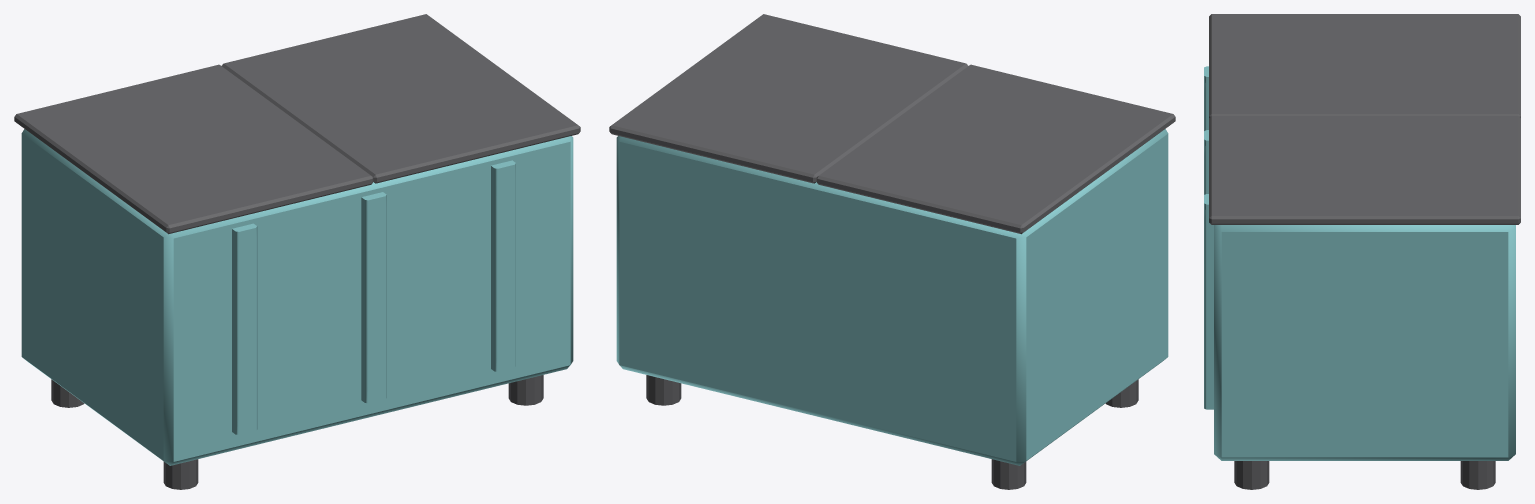
The model's file is dumpster.glb.
The picture shows the model from 3 angles, left to right: view 1: azimuth 30°, elevation 25°; view 2: azimuth 150°, elevation 25°; view 3: azimuth 270°, elevation 25°; orthographic projection.
Visible parts, largest first — view 1: dumpster_accent2, dumpster_dark, dumpster_rubber; view 2: dumpster_accent2, dumpster_dark, dumpster_rubber; view 3: dumpster_accent2, dumpster_dark, dumpster_rubber.
Boxes of the visible parts, bbox=[...] form: dumpster_accent2: bbox=[21, 129, 573, 465]; dumpster_dark: bbox=[14, 14, 580, 234]; dumpster_rubber: bbox=[51, 375, 543, 489]; dumpster_accent2: bbox=[616, 129, 1168, 465]; dumpster_dark: bbox=[609, 14, 1175, 234]; dumpster_rubber: bbox=[646, 375, 1138, 489]; dumpster_accent2: bbox=[1204, 66, 1515, 460]; dumpster_dark: bbox=[1209, 14, 1520, 224]; dumpster_rubber: bbox=[1234, 461, 1495, 489].
Bounding box in the file's own units: 1.92 × 1.24 × 1.26.
